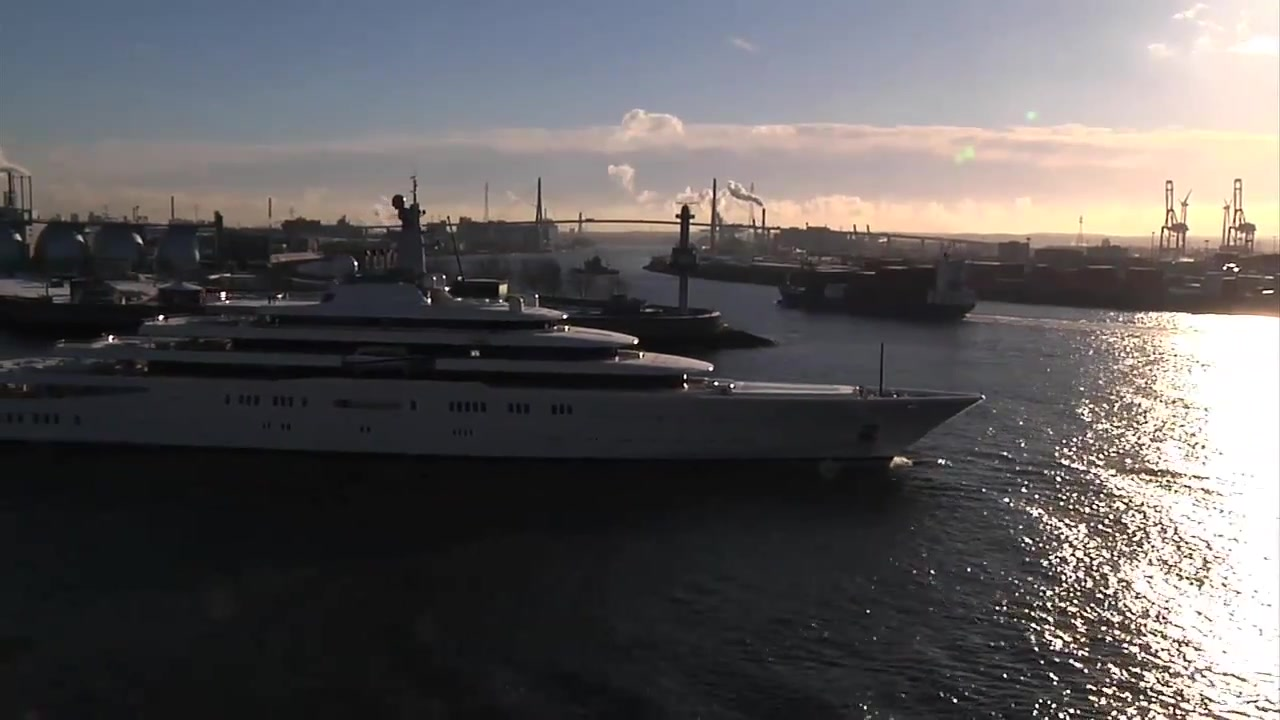boat: (1, 169, 992, 483)
